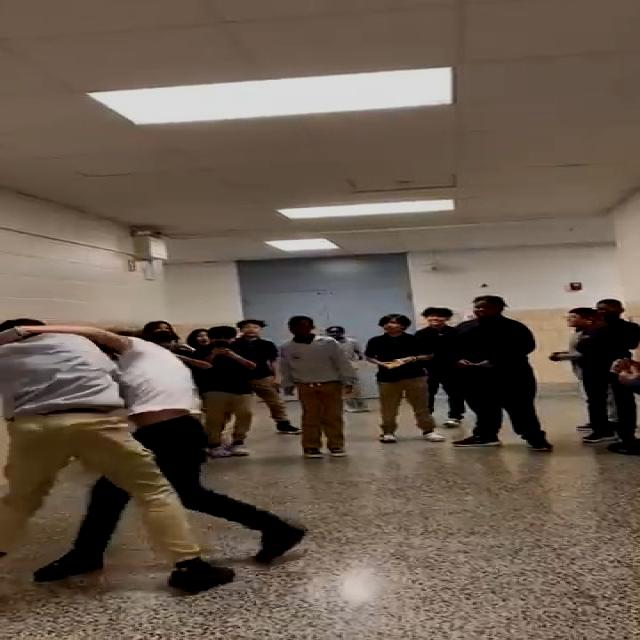fight: (4, 309, 304, 597)
